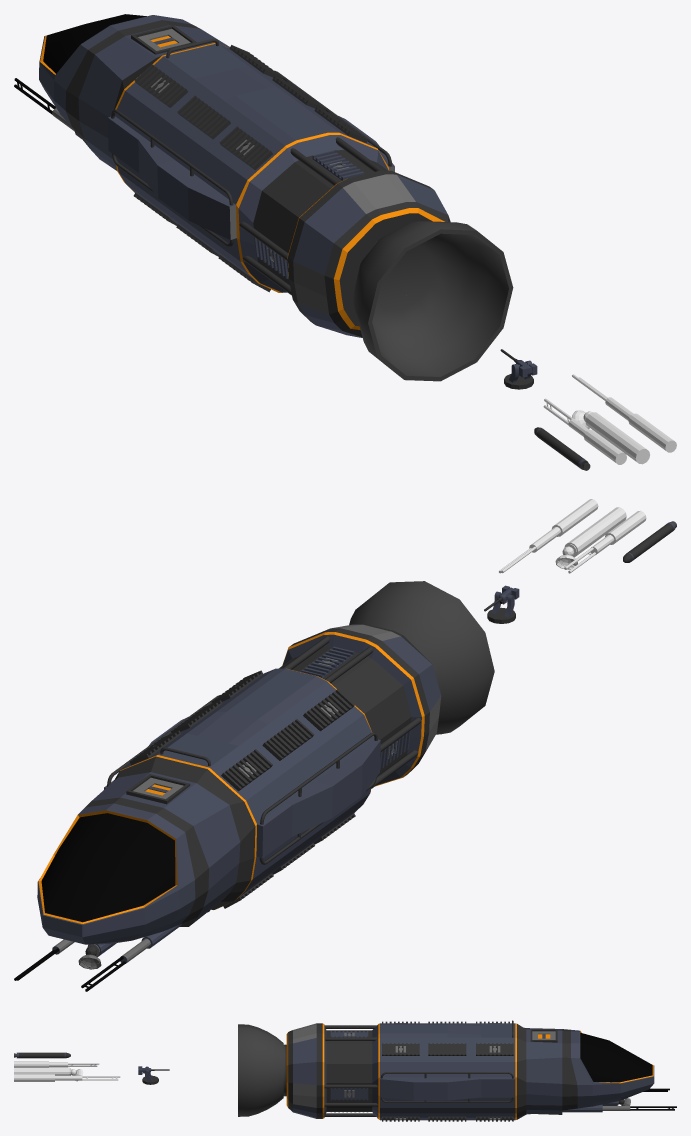
The model's file is SpaceShip1.fbx.
3 renders of one model, top to bottom at view 1: azimuth 30°, elevation 25°; view 2: azimuth 150°, elevation 25°; view 3: azimuth 270°, elevation 25°, orthographic. The views are drawn at different scales.
Parts seen in each view (by area): view 1: Ship, Rocket Engine, Window, Antenna 3.001, Antenna 1.001, Antenna 2.001, Torpedo, Cube.013; view 2: Ship, Window, Rocket Engine, Antennae, Antenna 3.001, Antenna 1.001, Antenna 2.001; view 3: Ship, Rocket Engine, Window, Antennae, Antenna 1.001, Antenna 3.001, Antenna 2.001, Torpedo, Cube.013.
Boxes of the visible parts, x1,y1,x2,y2 form: Ship: (39, 15, 450, 337); Rocket Engine: (353, 221, 513, 381); Window: (43, 14, 146, 73); Antenna 3.001: (583, 411, 649, 464); Antenna 1.001: (572, 374, 676, 452); Antenna 2.001: (543, 398, 626, 464); Torpedo: (534, 427, 590, 470); Cube.013: (138, 29, 190, 50); Ship: (37, 624, 441, 944); Window: (41, 813, 175, 922); Rocket Engine: (349, 581, 494, 734); Antennae: (14, 924, 181, 991); Antenna 3.001: (562, 507, 626, 557); Antenna 1.001: (499, 499, 598, 573); Antenna 2.001: (564, 510, 646, 573); Ship: (286, 1020, 654, 1121); Rocket Engine: (238, 1024, 286, 1116); Window: (580, 1032, 652, 1082); Antennae: (562, 1088, 676, 1112); Antenna 1.001: (14, 1074, 120, 1081); Antenna 3.001: (14, 1067, 76, 1075); Antenna 2.001: (14, 1061, 99, 1067); Torpedo: (14, 1052, 70, 1058); Cube.013: (532, 1031, 555, 1039).
Size of the model in its own units: 469 by 385 by 2585.
